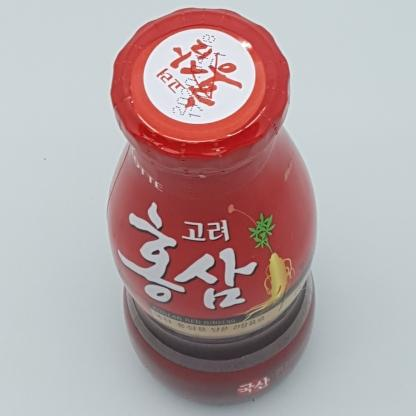------180ML: (106, 7, 317, 406)
